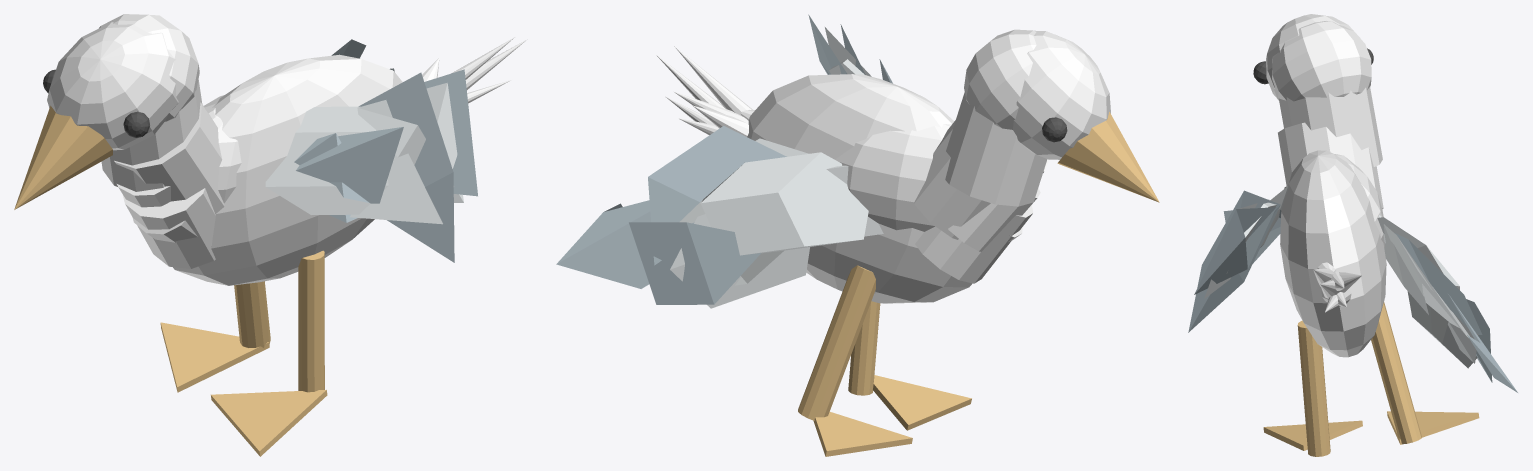
File: bird.glb
The picture shows the model from 3 angles, left to right: view 1: azimuth 30°, elevation 25°; view 2: azimuth 150°, elevation 25°; view 3: azimuth 270°, elevation 25°; orthographic projection. The views are drawn at different scales.
Parts seen in each view (by area): view 1: group442645604, group877370984, group722620116, group633490175, group1596304128, group251159497, group128649989, group1954884872, group555191929, group1523430260, group1957544324, group661277865 (+10 smaller); view 2: group442645604, group700593836, group877370984, group641860106, group850812453, group661277865, group212030292, group1538386730, group1546566115, group1218385953, group251159497, group1954884872 (+9 smaller); view 3: group442645604, group1538386730, group661277865, group761631143, group1546566115, group128649989, group1957544324, group722620116, group212030292, group1812590370, group1702488158, group700593836 (+8 smaller).
Part boxes in pixels (x1=…): group442645604: x1=173, y1=54, x2=402, y2=285; group877370984: x1=47, y1=22, x2=178, y2=150; group722620116: x1=358, y1=72, x2=454, y2=262; group633490175: x1=294, y1=127, x2=403, y2=222; group1596304128: x1=265, y1=106, x2=388, y2=214; group251159497: x1=14, y1=105, x2=112, y2=209; group128649989: x1=114, y1=102, x2=224, y2=213; group1954884872: x1=122, y1=188, x2=215, y2=268; group555191929: x1=211, y1=389, x2=327, y2=456; group1523430260: x1=160, y1=322, x2=269, y2=392; group1957544324: x1=298, y1=250, x2=324, y2=392; group661277865: x1=101, y1=79, x2=202, y2=191; group442645604: x1=747, y1=74, x2=972, y2=303; group700593836: x1=679, y1=152, x2=868, y2=285; group877370984: x1=1013, y1=30, x2=1110, y2=159; group641860106: x1=629, y1=222, x2=760, y2=304; group850812453: x1=835, y1=124, x2=951, y2=231; group661277865: x1=945, y1=91, x2=1047, y2=206; group212030292: x1=648, y1=126, x2=786, y2=265; group1538386730: x1=964, y1=29, x2=1036, y2=129; group1546566115: x1=798, y1=265, x2=875, y2=420; group1218385953: x1=556, y1=200, x2=650, y2=288; group251159497: x1=1057, y1=112, x2=1159, y2=202; group1954884872: x1=915, y1=205, x2=1033, y2=283; group442645604: x1=1280, y1=150, x2=1386, y2=357; group1538386730: x1=1272, y1=21, x2=1371, y2=101; group661277865: x1=1278, y1=87, x2=1382, y2=166; group761631143: x1=1194, y1=207, x2=1276, y2=294; group1546566115: x1=1371, y1=302, x2=1421, y2=444; group128649989: x1=1278, y1=122, x2=1383, y2=209; group1957544324: x1=1297, y1=320, x2=1330, y2=456; group722620116: x1=1188, y1=190, x2=1280, y2=332; group212030292: x1=1394, y1=233, x2=1482, y2=334; group1812590370: x1=1384, y1=224, x2=1469, y2=337; group1702488158: x1=1407, y1=291, x2=1477, y2=368; group700593836: x1=1377, y1=217, x2=1478, y2=363.
Bounding box in the file's own units: 0.4462 × 0.3548 × 0.2862.
